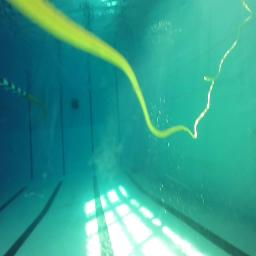Full: (71, 103, 79, 110)
